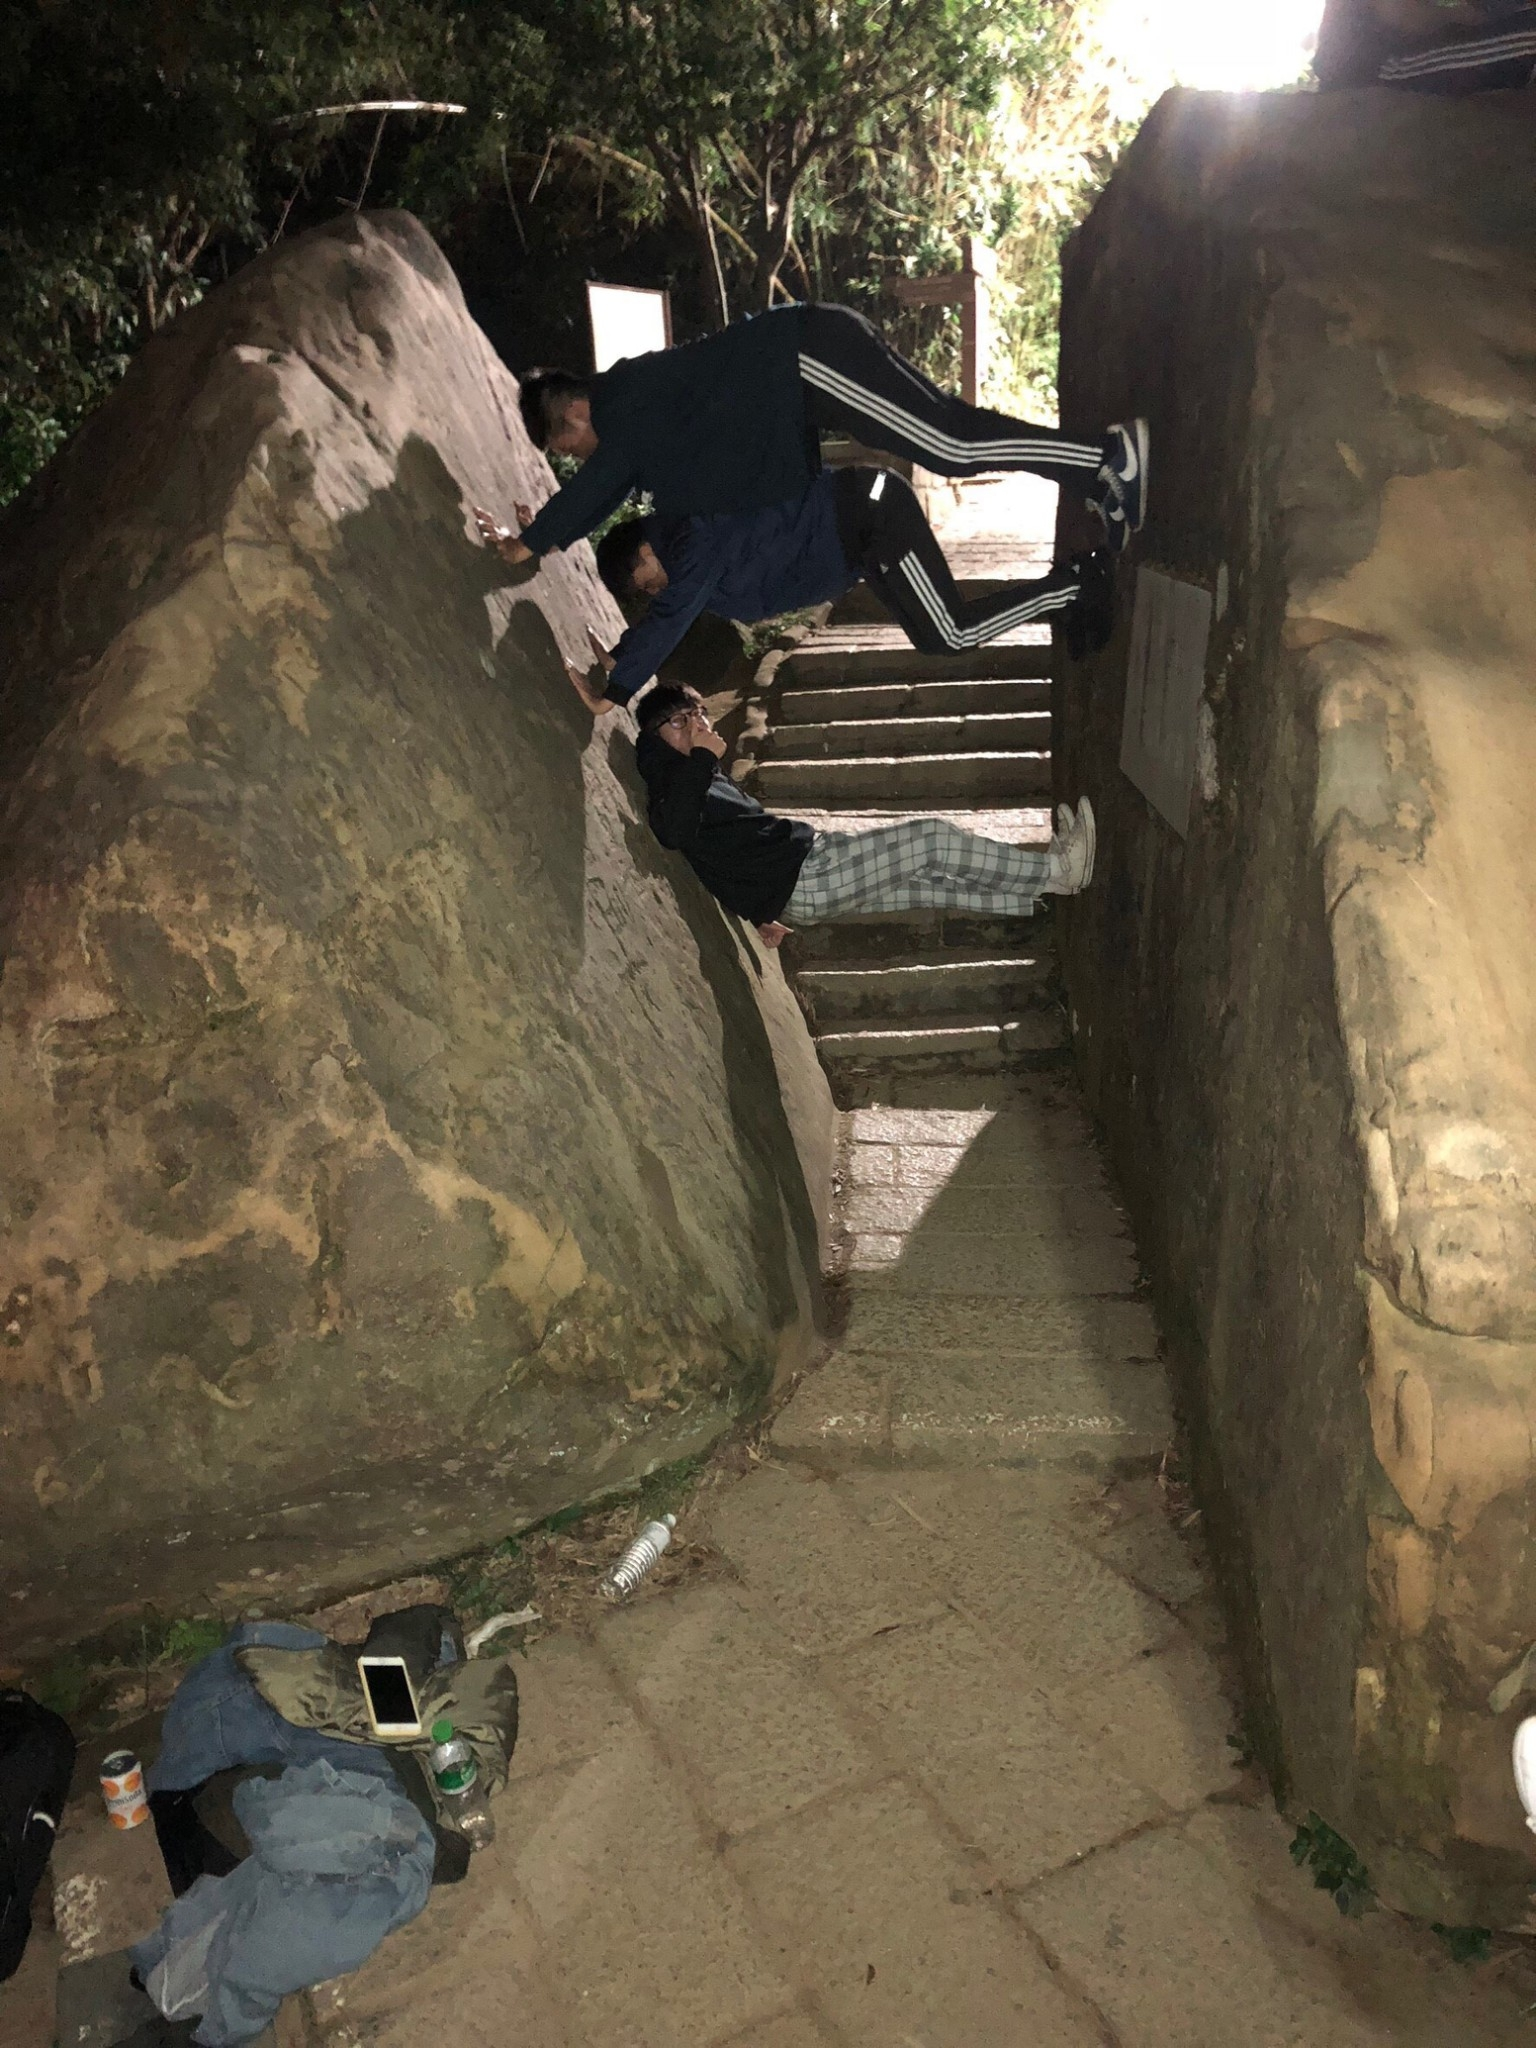people: (489, 341, 1176, 554), (621, 689, 1118, 934), (576, 512, 1131, 709)
